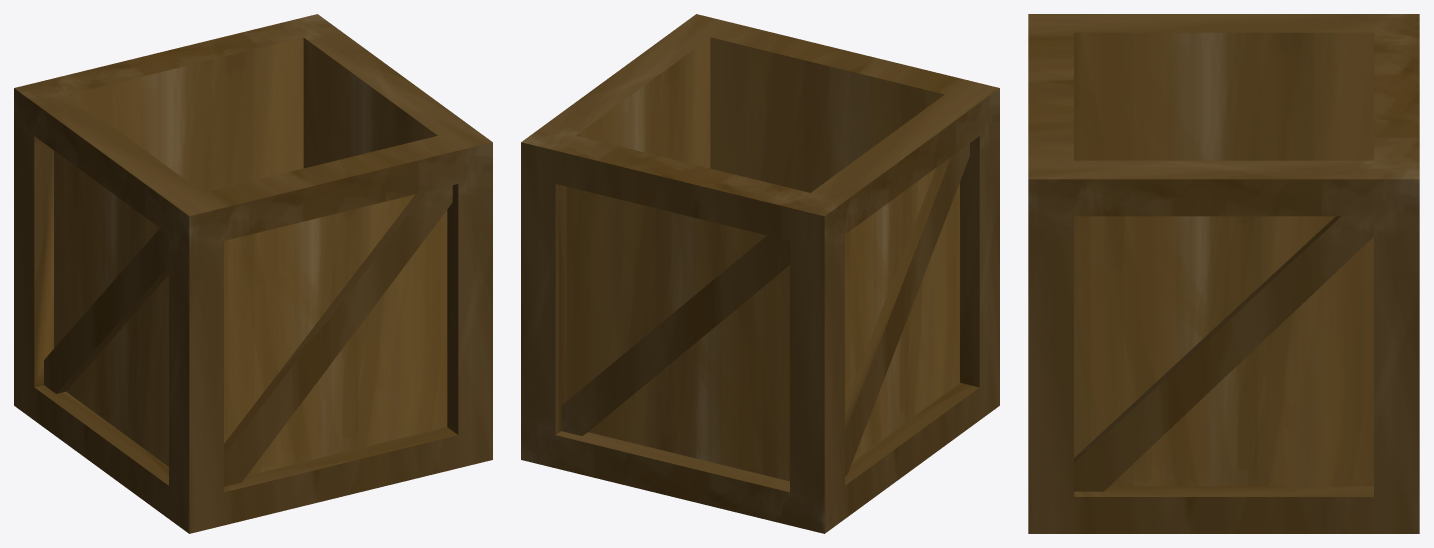
Rendered from WoodenCrate2.fbx.
3 renders of one model, left to right at view 1: azimuth 30°, elevation 25°; view 2: azimuth 150°, elevation 25°; view 3: azimuth 270°, elevation 25°, orthographic. The views are drawn at different scales.
Visible parts, largest first — view 1: WoodenCrate2; view 2: WoodenCrate2; view 3: WoodenCrate2.
Boxes of the visible parts, bbox=[...] form: WoodenCrate2: bbox=[14, 14, 492, 533]; WoodenCrate2: bbox=[521, 14, 999, 533]; WoodenCrate2: bbox=[1028, 14, 1419, 533].
Size of the model in its own units: 1.97 by 1.97 by 1.97.
